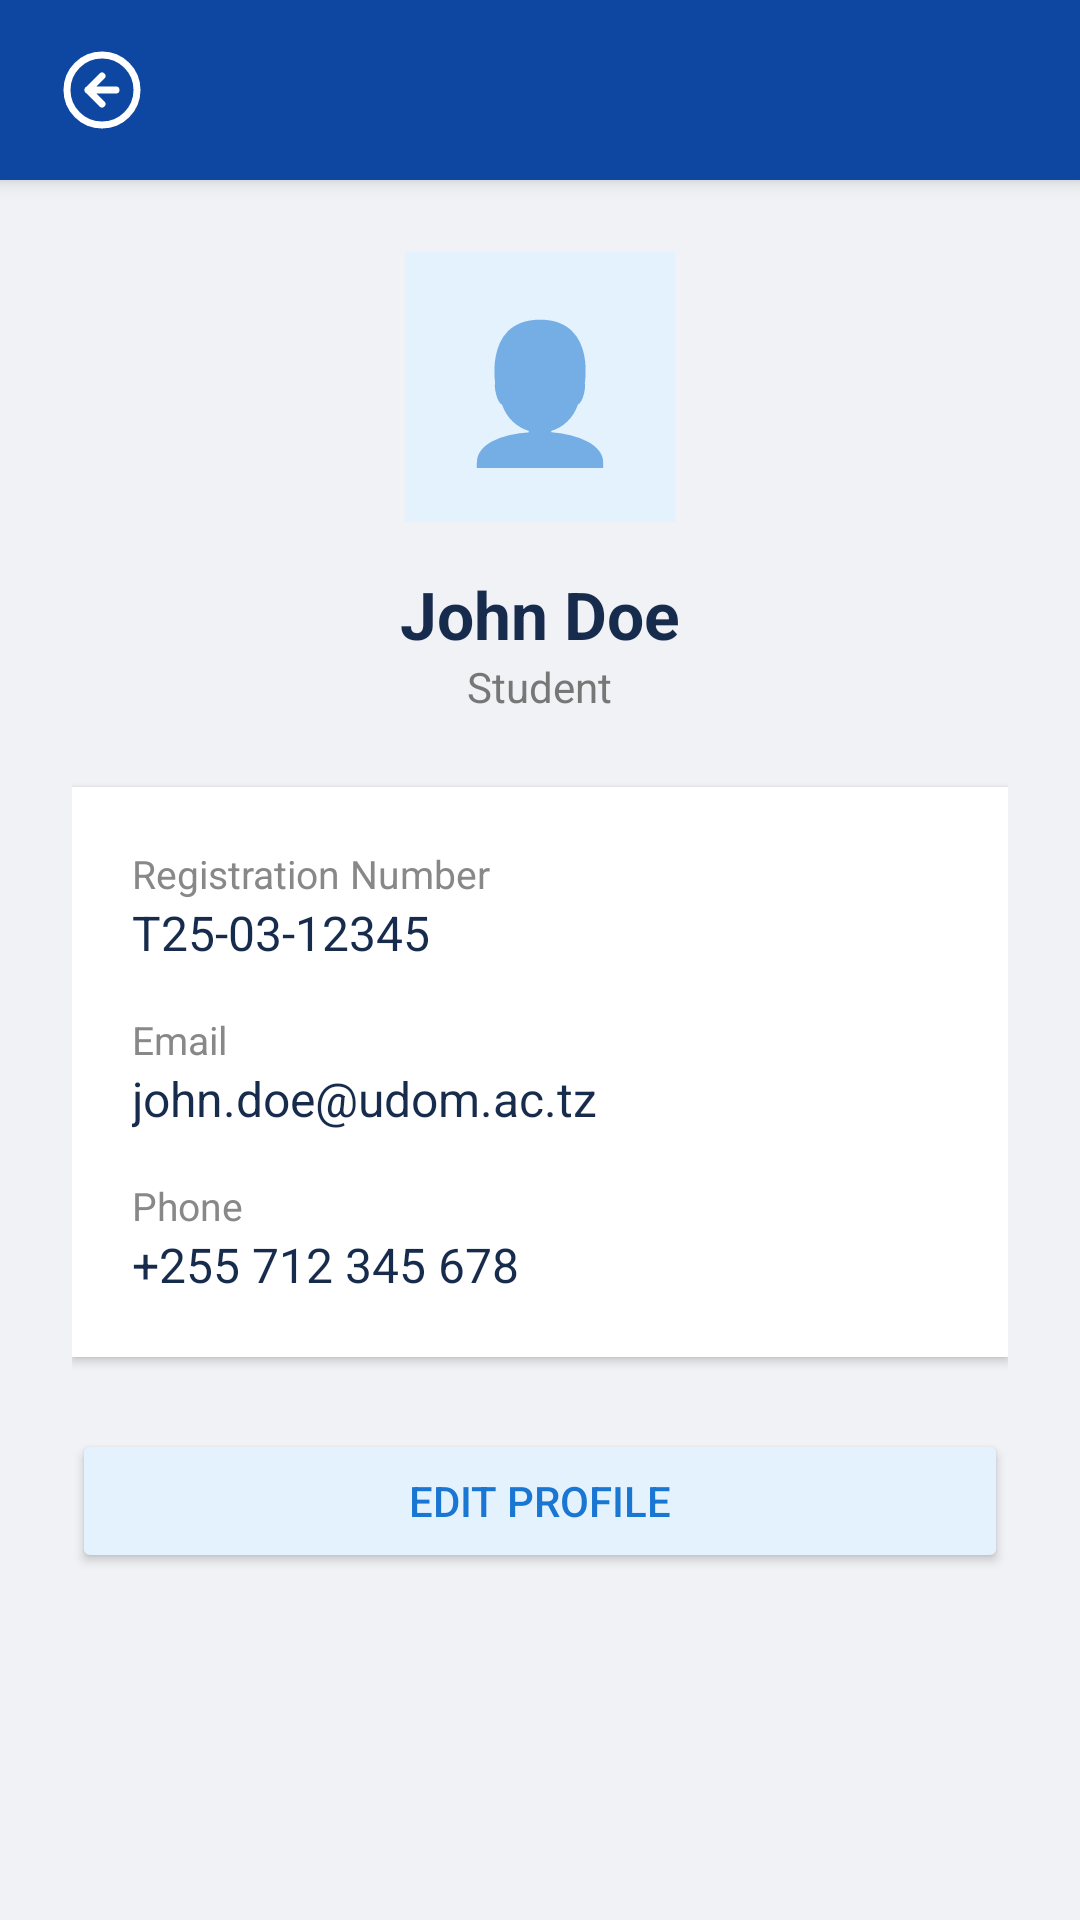

Icon bounding boxes for this 1080w x 1920h phone screenshot, format (x1, y1, x2, y2):
Back: (63, 51, 141, 129)
